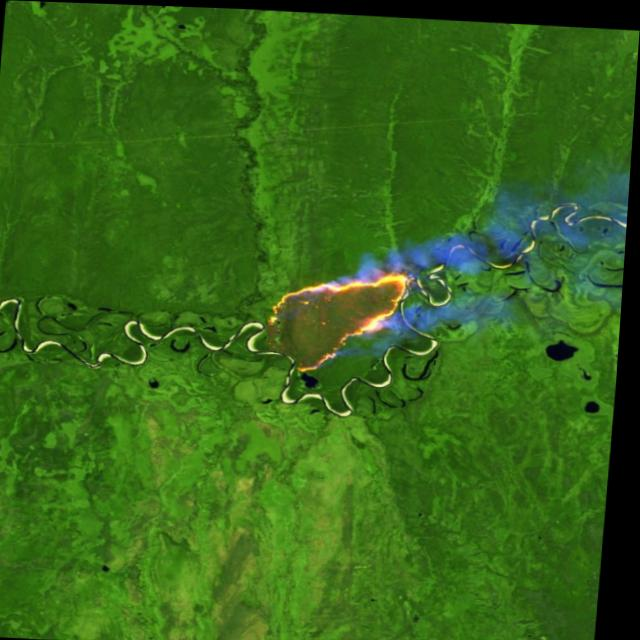fire: (262, 257, 417, 374)
